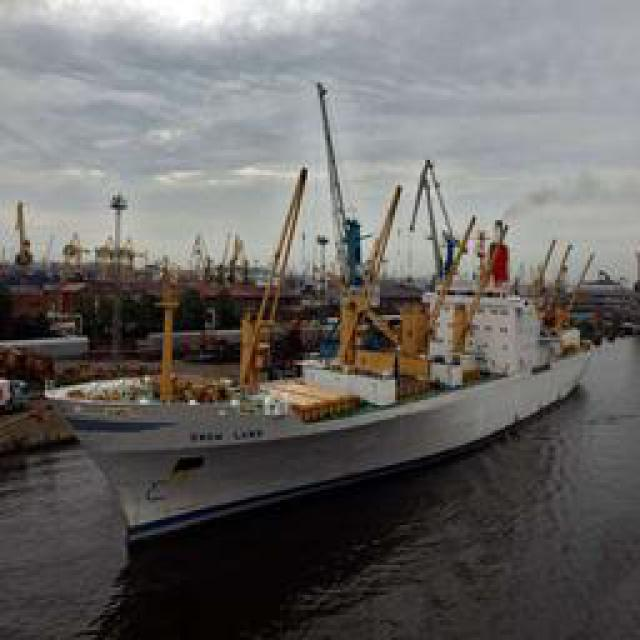Ship: (53, 140, 611, 598)
